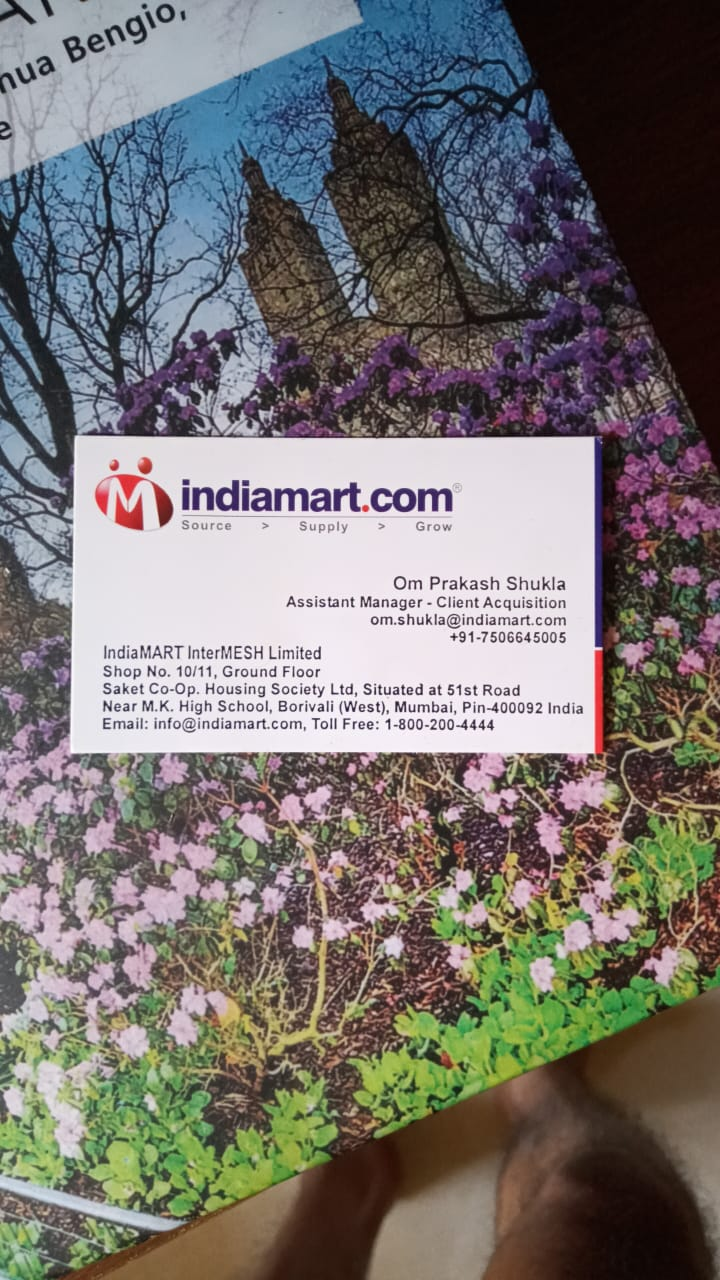card: (66, 426, 612, 761)
